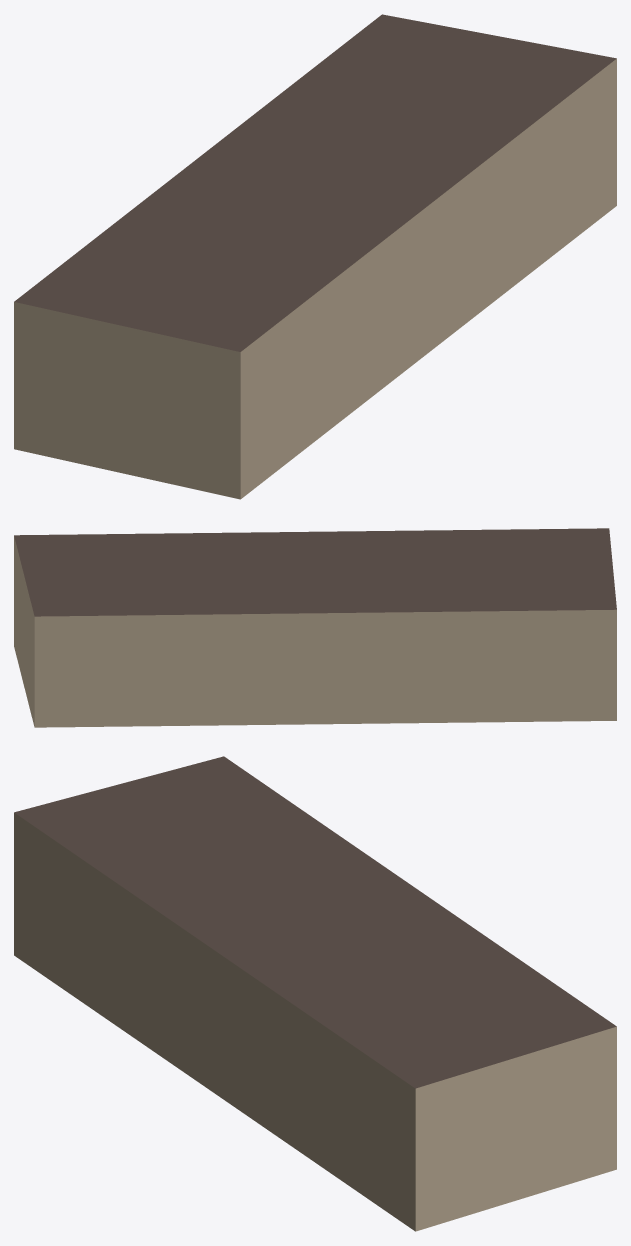
3 renders of one model, top to bottom at view 1: azimuth 30°, elevation 25°; view 2: azimuth 150°, elevation 25°; view 3: azimuth 270°, elevation 25°, orthographic. The views are drawn at different scales.
Visible parts, largest first — view 1: HP-w369238003; view 2: HP-w369238003; view 3: HP-w369238003.
Part boxes in pixels (<box>): HP-w369238003: <box>14,14,616,499</box>; HP-w369238003: <box>14,528,616,727</box>; HP-w369238003: <box>14,756,616,1231</box>.
Bounding box in the file's own units: 44.83 × 9 × 34.38.
